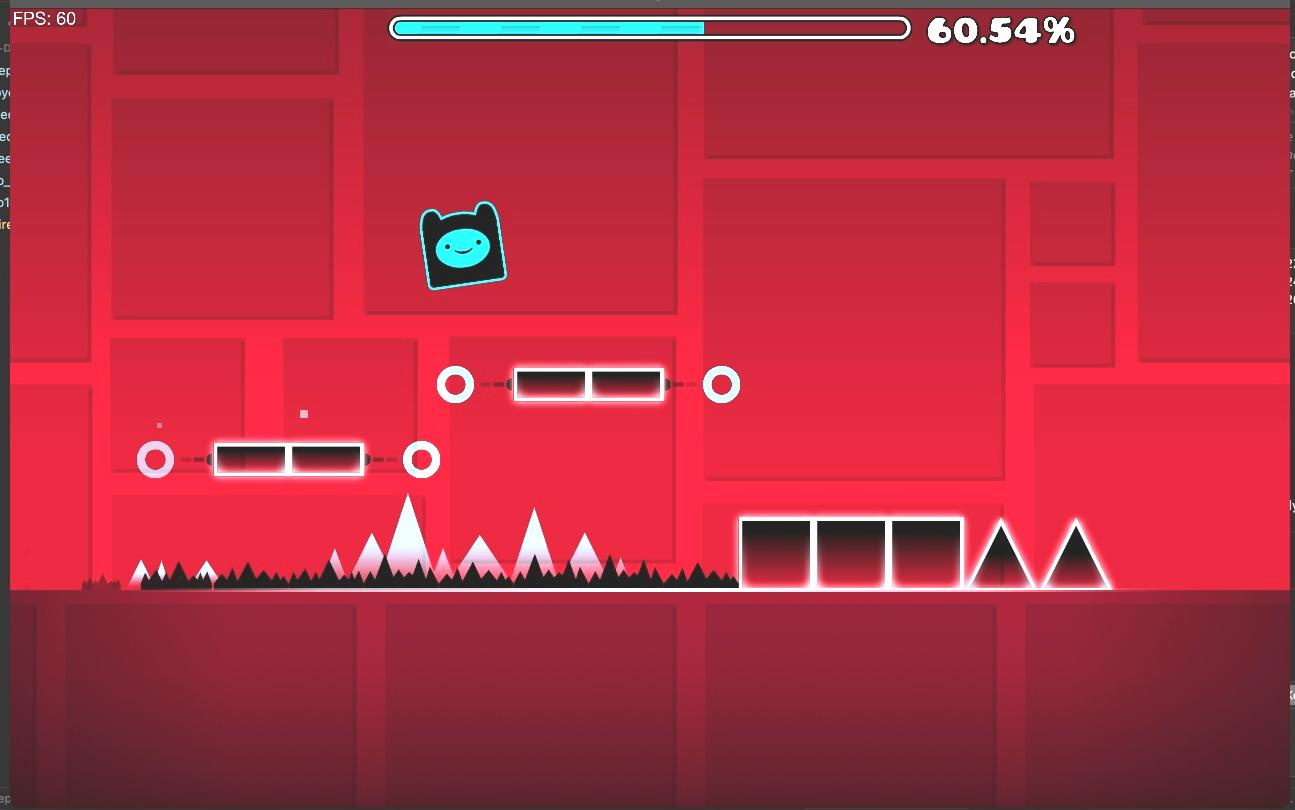block: (738, 516, 964, 588)
platform: (210, 442, 367, 476), (510, 368, 668, 401)
player: (421, 202, 506, 288)
spike: (124, 496, 739, 589), (967, 519, 1039, 588), (1041, 521, 1109, 589)
